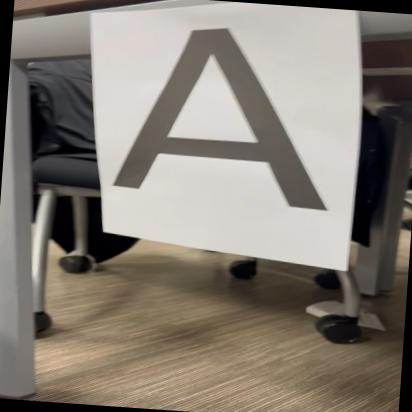seat: (96, 10, 365, 217)
